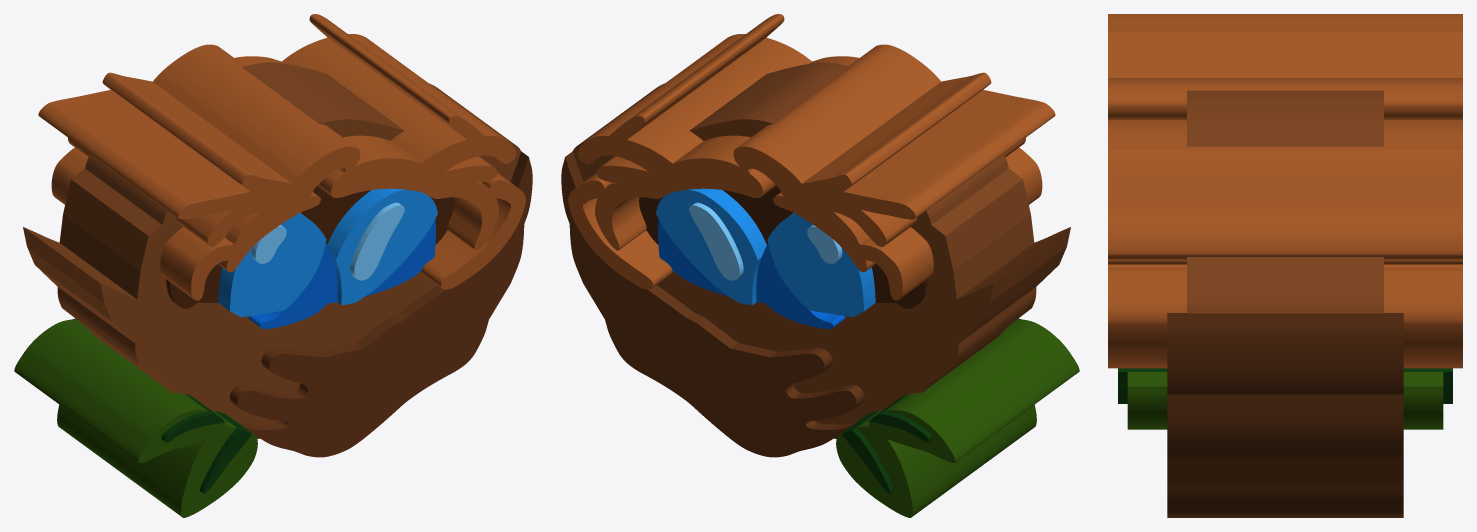
File: U+1FABA.obj
3 renders of one model, left to right at view 1: azimuth 30°, elevation 25°; view 2: azimuth 150°, elevation 25°; view 3: azimuth 270°, elevation 25°, orthographic. The views are drawn at different scales.
Visible parts, largest first — view 1: U+1FABA_layer08_obj00, U+1FABA_layer00_obj00, U+1FABA_layer02_obj00, U+1FABA_layer06_obj00, U+1FABA_layer04_obj01, U+1FABA_layer04_obj00, U+1FABA_layer03_obj00, U+1FABA_layer01_obj00, U+1FABA_layer05_obj00, U+1FABA_layer07_obj00, U+1FABA_layer07_obj01, U+1FABA_layer05_obj01; view 2: U+1FABA_layer08_obj00, U+1FABA_layer00_obj00, U+1FABA_layer02_obj00, U+1FABA_layer06_obj00, U+1FABA_layer04_obj01, U+1FABA_layer04_obj00, U+1FABA_layer03_obj00, U+1FABA_layer01_obj00, U+1FABA_layer05_obj00, U+1FABA_layer07_obj00, U+1FABA_layer07_obj01, U+1FABA_layer05_obj01; view 3: U+1FABA_layer08_obj00, U+1FABA_layer02_obj00, U+1FABA_layer00_obj00, U+1FABA_layer06_obj00, U+1FABA_layer07_obj00.
Boxes of the visible parts, left/top/right/bottom form: U+1FABA_layer08_obj00: left=38, top=14, right=525, bottom=300; U+1FABA_layer00_obj00: left=23, top=62, right=520, bottom=424; U+1FABA_layer02_obj00: left=229, top=151, right=532, bottom=457; U+1FABA_layer06_obj00: left=14, top=319, right=257, bottom=517; U+1FABA_layer04_obj01: left=218, top=213, right=326, bottom=317; U+1FABA_layer04_obj00: left=327, top=188, right=437, bottom=305; U+1FABA_layer03_obj00: left=248, top=219, right=435, bottom=328; U+1FABA_layer01_obj00: left=166, top=185, right=454, bottom=308; U+1FABA_layer05_obj00: left=350, top=202, right=404, bottom=280; U+1FABA_layer07_obj00: left=200, top=411, right=252, bottom=493; U+1FABA_layer07_obj01: left=73, top=318, right=225, bottom=442; U+1FABA_layer05_obj01: left=251, top=225, right=286, bottom=263; U+1FABA_layer08_obj00: left=568, top=14, right=1055, bottom=300; U+1FABA_layer00_obj00: left=573, top=62, right=1070, bottom=424; U+1FABA_layer02_obj00: left=561, top=151, right=864, bottom=457; U+1FABA_layer06_obj00: left=836, top=319, right=1079, bottom=517; U+1FABA_layer04_obj01: left=767, top=213, right=875, bottom=317; U+1FABA_layer04_obj00: left=656, top=188, right=766, bottom=305; U+1FABA_layer03_obj00: left=658, top=219, right=845, bottom=328; U+1FABA_layer01_obj00: left=639, top=185, right=927, bottom=308; U+1FABA_layer05_obj00: left=689, top=202, right=743, bottom=280; U+1FABA_layer07_obj00: left=841, top=411, right=893, bottom=493; U+1FABA_layer07_obj01: left=868, top=318, right=1020, bottom=442; U+1FABA_layer05_obj01: left=807, top=225, right=842, bottom=263; U+1FABA_layer08_obj00: left=1108, top=14, right=1462, bottom=368; U+1FABA_layer02_obj00: left=1167, top=313, right=1403, bottom=517; U+1FABA_layer00_obj00: left=1187, top=90, right=1383, bottom=314; U+1FABA_layer06_obj00: left=1127, top=372, right=1443, bottom=429; U+1FABA_layer07_obj00: left=1118, top=368, right=1452, bottom=403.
Size of the model in its own units: 0.3161 by 0.2446 by 0.18.
